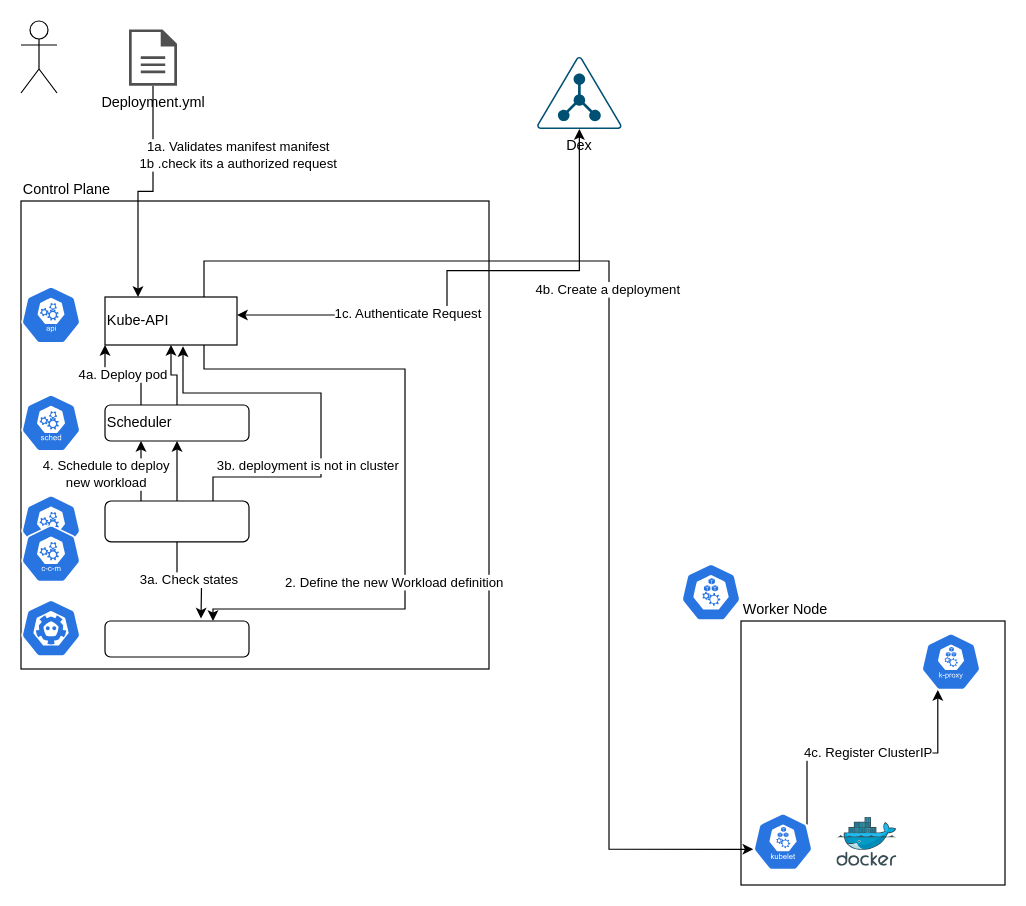
Image size: 1026x906. Some labels were removed from this diagram. Here are the shapes that lost their labels. From the top down, the centre of each, then its label:
the point at 38,56: Actor
the point at 176,521: Control Manager
the point at 176,638: Etcd
